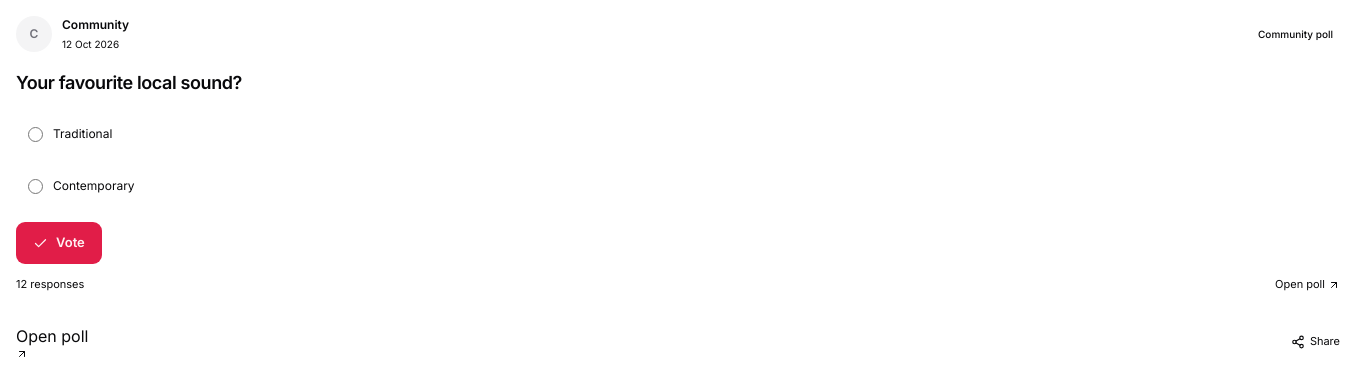
Test: single choice votes use the real response endpoint and question identity
Click the radio button labelled "Traditional": (36, 134) [28, 127, 43, 142]
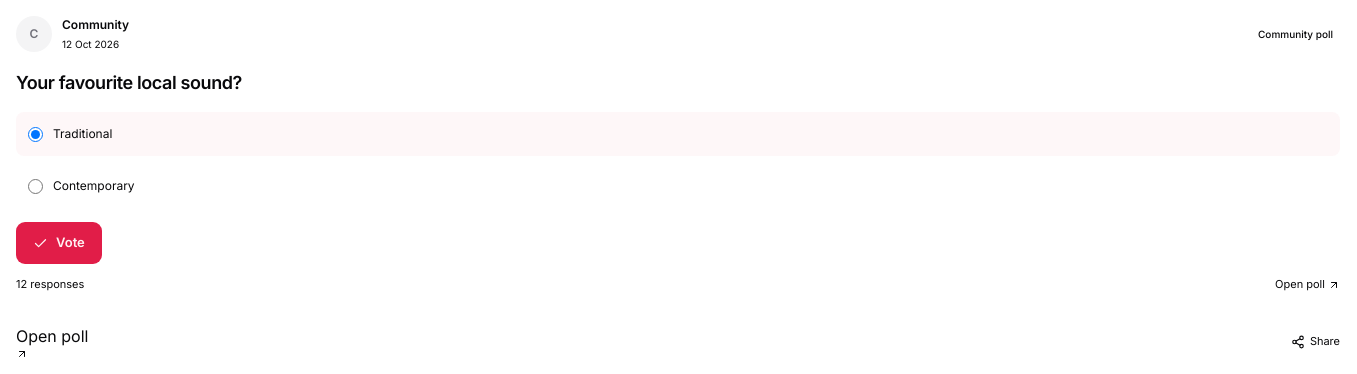
Click the button "Vote": (59, 243) [16, 222, 102, 264]
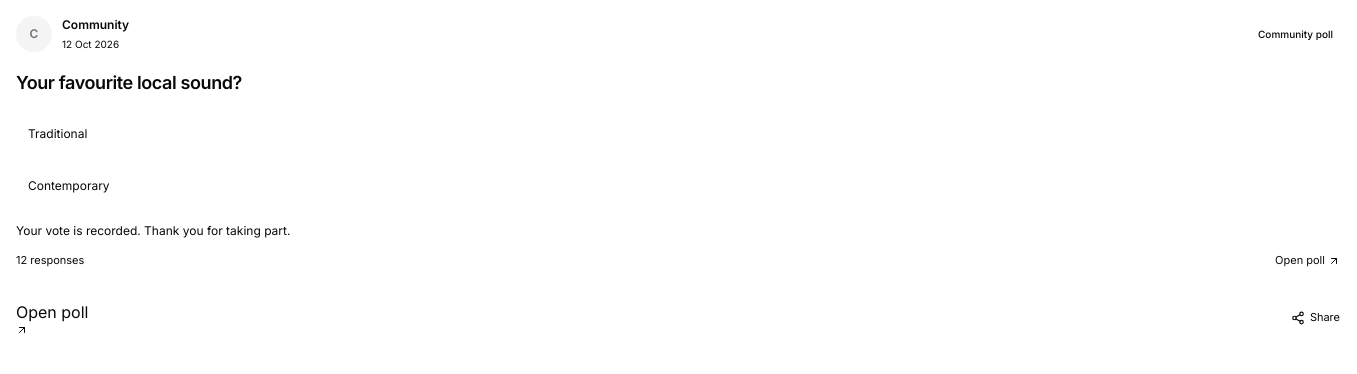
Expected: the text "Your vote is recorded. Thank you for taking part." is shown, [16, 223, 290, 238]
